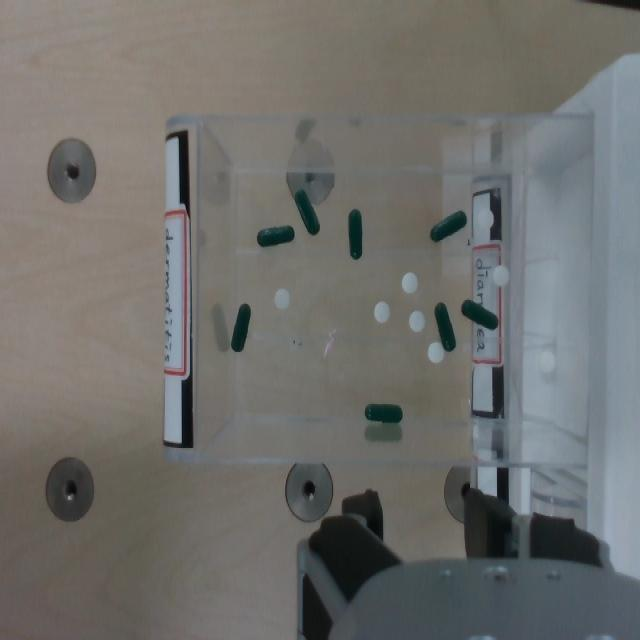ganakan_tab: (427, 340, 445, 366), (401, 270, 419, 295), (492, 264, 510, 289), (373, 300, 391, 324), (408, 310, 426, 334), (477, 207, 494, 230), (274, 288, 290, 310)
monodoxy_cap: (428, 208, 466, 243), (294, 187, 321, 236), (461, 298, 499, 331), (433, 301, 456, 352), (294, 189, 319, 235), (230, 301, 252, 353), (430, 211, 466, 241), (461, 299, 497, 329), (434, 303, 455, 351), (363, 401, 403, 425), (257, 224, 296, 248), (231, 304, 250, 352), (348, 206, 364, 260), (257, 225, 294, 247), (365, 404, 402, 423), (348, 209, 362, 259)
